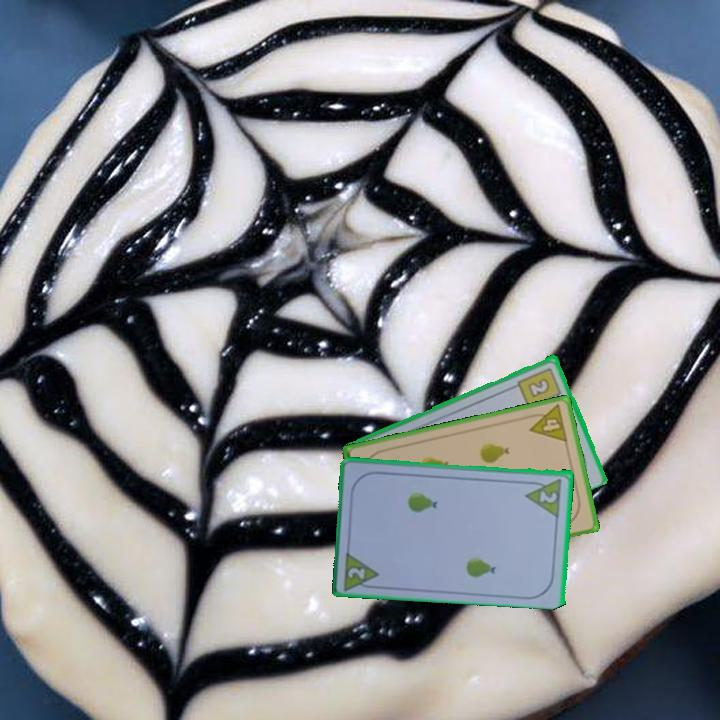2b: (514, 364, 564, 410)
2p: (536, 487, 560, 506), (344, 564, 368, 582)
4p: (523, 401, 570, 445)
